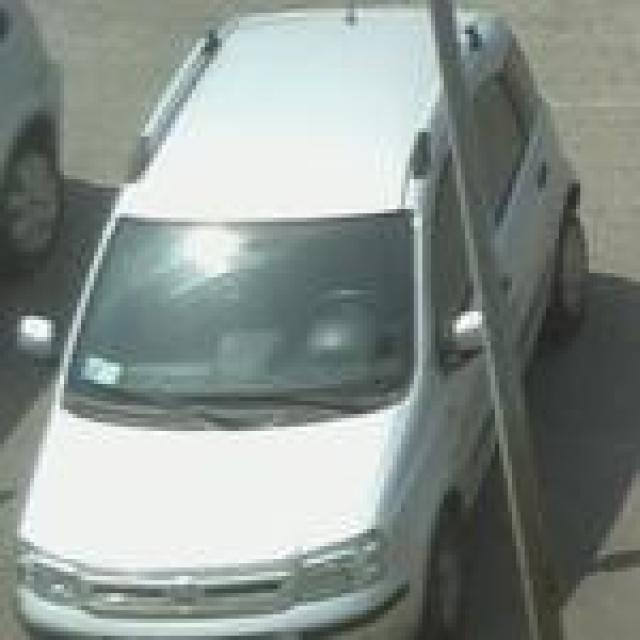cars-sUYr: (24, 1, 600, 640)
